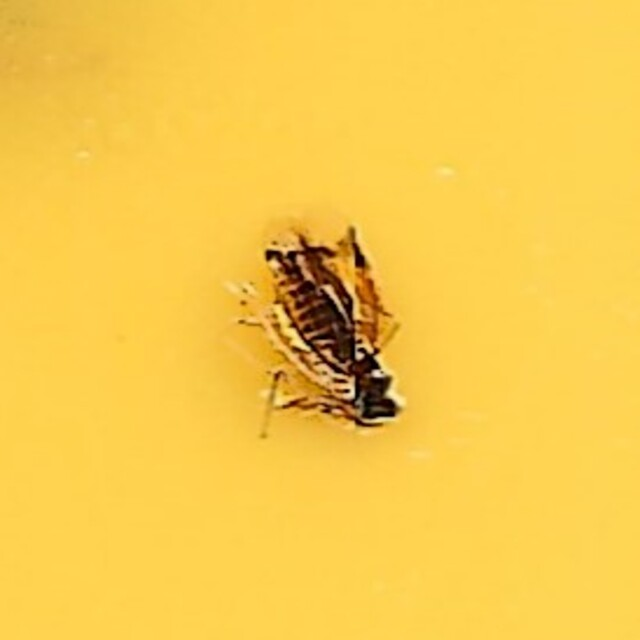Hemiptera: (234, 198, 406, 442)
